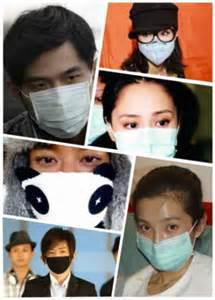NONE: (11, 246, 31, 269)
OK: (31, 150, 114, 230), (25, 66, 90, 136), (113, 108, 178, 168), (139, 25, 176, 62), (46, 245, 76, 275)
WRONG: (136, 214, 195, 272)
